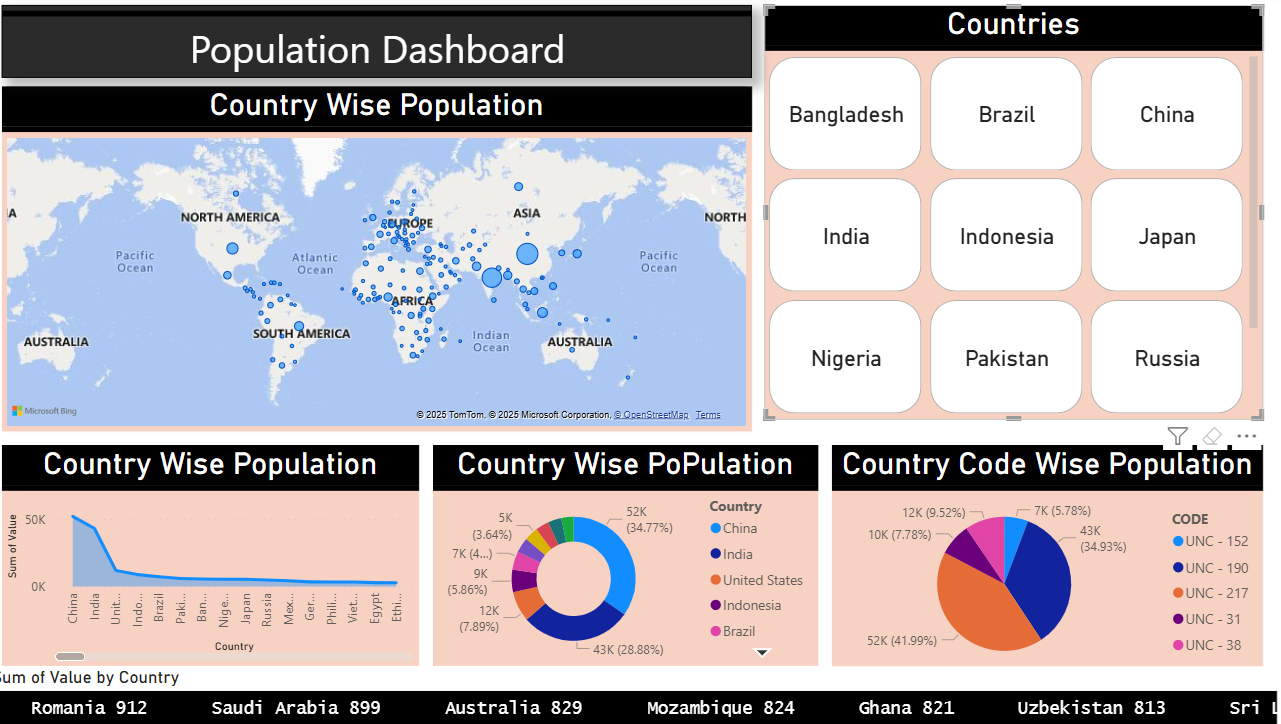

Layout of this report page (visuals, bound fields, positions):
{"tool":"powerbi","page":{"name":"Page 1","canvas":[1280,720],"ordinal":0},"visuals":[{"type":"pieChart","title":"Country Code Wise Population","fields":{"Y":["Sum(Consolidatedfile1980-2020.Value)"],"Series":["Country Code.CODE"]},"box":[839.8,440.1,421.7,226.1],"z":0},{"type":"donutChart","title":"Country Wise PoPulation","fields":{"Y":["Sum(Consolidatedfile1980-2020.Value)"],"Category":["Consolidatedfile1980-2020.Country"]},"box":[449.8,440.1,376.5,216.4],"z":1000},{"type":"areaChart","title":"Country Wise Population","fields":{"Y":["Sum(Consolidatedfile1980-2020.Value)"],"Category":["Consolidatedfile1980-2020.Country"]},"box":[28.4,440.3,407.9,216.1],"z":2000},{"type":"map","title":"Country Wise Population","fields":{"Category":["Consolidatedfile1980-2020.Country"],"Size":["Sum(Consolidatedfile1980-2020.Value)"]},"box":[28.4,89.1,733.3,337.6],"z":3000},{"type":"ScrollingTextVisual1448795304508","fields":{"Category":["Consolidatedfile1980-2020.Country"],"Measure Absolute":["Sum(Consolidatedfile1980-2020.Value)"]},"box":[13.5,656.3,1266.8,63.5],"z":4000},{"type":"advancedSlicerVisual","title":"Countries","fields":{"Values":["Consolidatedfile1980-2020.Country"]},"box":[792.1,0,487.7,405.8],"z":5000},{"type":"textbox","box":[28.1,9.8,733.4,70.9],"z":6000}]}

Visuals, with their boxes in screenshot pixels (x1, y1, x2, y2), scaled from the page's 1280x720 canvas onto the 1281x724 screenshot:
"Country Code Wise Population" pieChart: x1=840, y1=443, x2=1262, y2=670
"Country Wise PoPulation" donutChart: x1=450, y1=443, x2=827, y2=660
"Country Wise Population" areaChart: x1=28, y1=443, x2=437, y2=660
"Country Wise Population" map: x1=28, y1=90, x2=762, y2=429
ScrollingTextVisual1448795304508 - Consolidatedfile1980-2020.Country x Sum(Consolidatedfile1980-2020.Value): x1=14, y1=660, x2=1280, y2=723
"Countries" advancedSlicerVisual: x1=793, y1=0, x2=1280, y2=408
textbox: x1=28, y1=10, x2=762, y2=81
